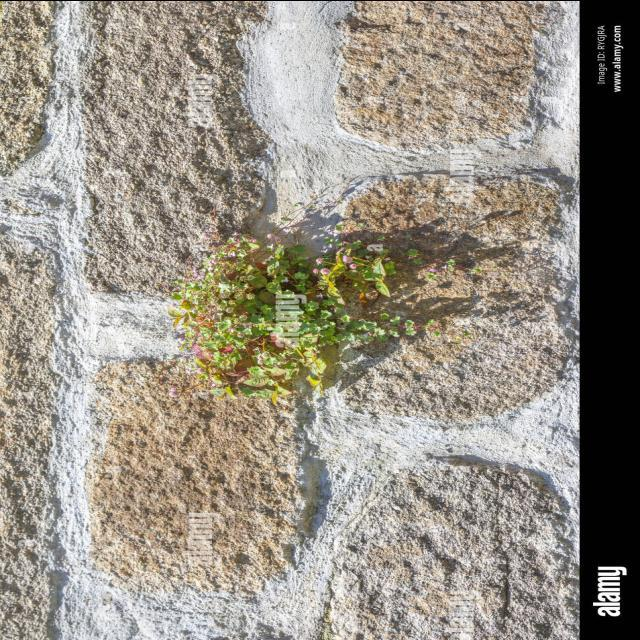Crack: (2, 0, 582, 639)
